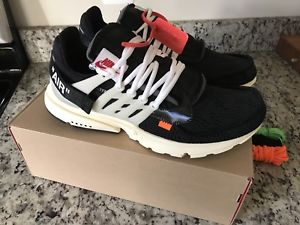Nike x OFF--WHITE Air Presto OG: (35, 22, 267, 162)
